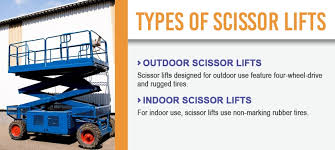Scissor Lift: (5, 30, 117, 150)
